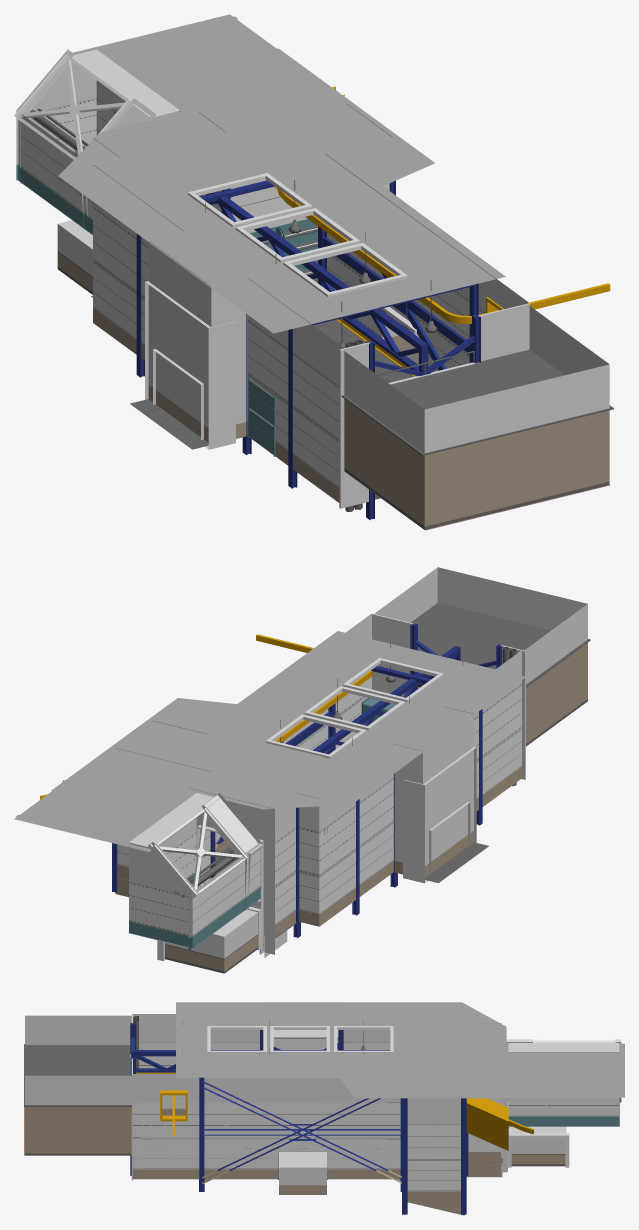
File: smallfactory.glb
3 views of the same model, one above another, from view 1: azimuth 30°, elevation 25°; view 2: azimuth 150°, elevation 25°; view 3: azimuth 270°, elevation 25° (orthographic). The views are drawn at different scales.
Visible parts, largest first — view 1: Plane.011, Plane.023, Plane.018, Floorplan.003, Plane.016, skylight.002, Cube.090, Plane.022, Cube.183, Skylight, Floorplan, Cube.085 (+11 smaller); view 2: Plane.011, Plane.018, Plane.023, Floorplan.003, Plane.016, Cube.038, Floorplan.005, skylight.002, Cube.090, Cube.183, Plane.022, Skylight (+5 smaller); view 3: Plane.011, Plane.022, Plane.023, Cube.038, Plane.018, Floorplan.003, Plane.016, Cube.107, Cube.175, skylight.002, Floorplan.005, Cube.134 (+7 smaller).
Boxes of the visible parts, x1,y1,x2,y2 form: Plane.011: (58,14,505,333); Plane.023: (344,306,609,529); Plane.018: (93,138,343,502); Floorplan.003: (18,49,180,234); Plane.016: (341,349,613,455); skylight.002: (188,173,407,297); Cube.090: (145,281,235,449); Plane.022: (325,153,528,372); Cube.183: (339,303,529,508); Skylight: (14,54,133,159); Floorplan: (130,278,412,449); Cube.085: (206,191,428,372); Plane.011: (14,631,525,851); Plane.018: (275,650,522,936); Plane.023: (374,567,587,746); Floorplan.003: (129,793,260,948); Plane.016: (411,603,590,687); Cube.038: (115,720,274,954); Floorplan.005: (165,900,260,973); skylight.002: (265,658,443,758); Cube.090: (403,747,476,883); Cube.183: (372,613,525,779); Plane.022: (207,613,372,852); Skylight: (152,807,248,898); Plane.011: (176,1002,624,1098); Plane.022: (132,1074,402,1179); Plane.023: (25,1015,131,1155); Cube.038: (403,1057,507,1215); Plane.018: (132,1002,501,1115); Floorplan.003: (508,1043,619,1126); Plane.016: (24,1044,131,1106); Cube.107: (202,1080,401,1184); Cube.175: (278,1151,327,1194); skylight.002: (207,1026,393,1053); Floorplan.005: (511,1126,566,1166); Cube.134: (466,1098,508,1150).
Bounding box in the file's own units: 25.99 × 13.87 × 58.78.
Materials: 23 (7 with a texture image).
